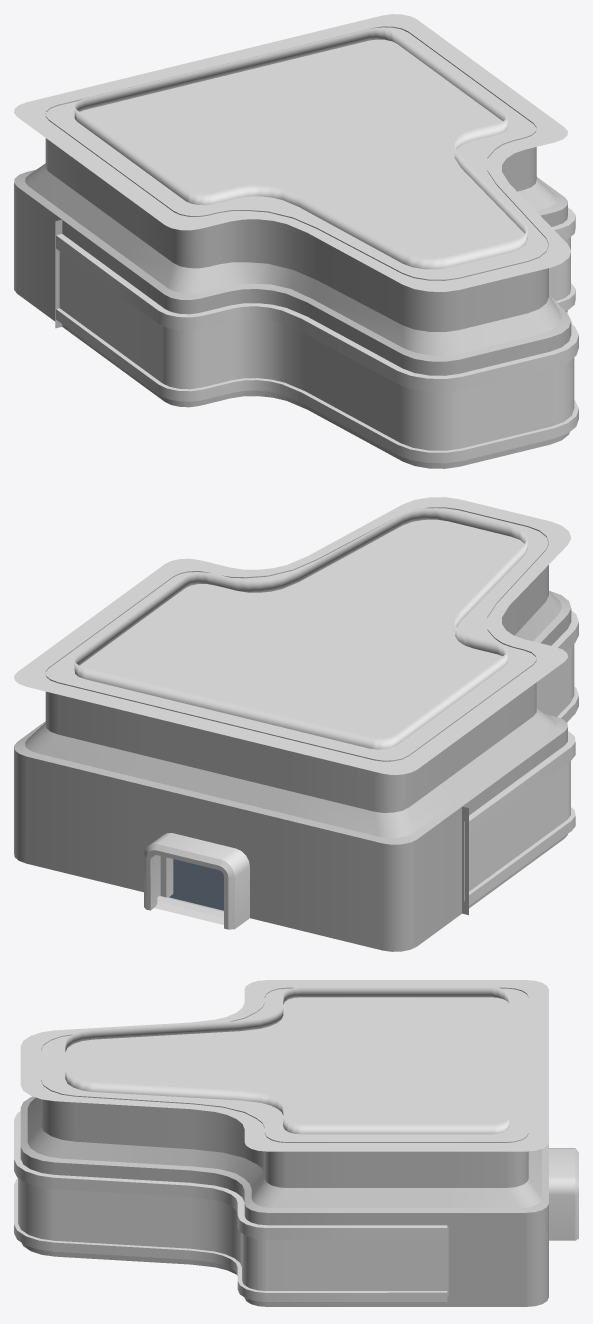
Rendered from SM_Ship_Cockpit.fbx.
3 renders of one model, top to bottom at view 1: azimuth 30°, elevation 25°; view 2: azimuth 150°, elevation 25°; view 3: azimuth 270°, elevation 25°, orthographic. The views are drawn at different scales.
Parts seen in each view (by area): view 1: SM_Ship_Cockpit; view 2: SM_Ship_Cockpit; view 3: SM_Ship_Cockpit.
Part boxes in pixels (x1=…): SM_Ship_Cockpit: x1=14, y1=14, x2=578, y2=468; SM_Ship_Cockpit: x1=14, y1=497, x2=578, y2=951; SM_Ship_Cockpit: x1=14, y1=980, x2=578, y2=1306.
Size of the model in its own units: 4137 by 1803 by 5568.
